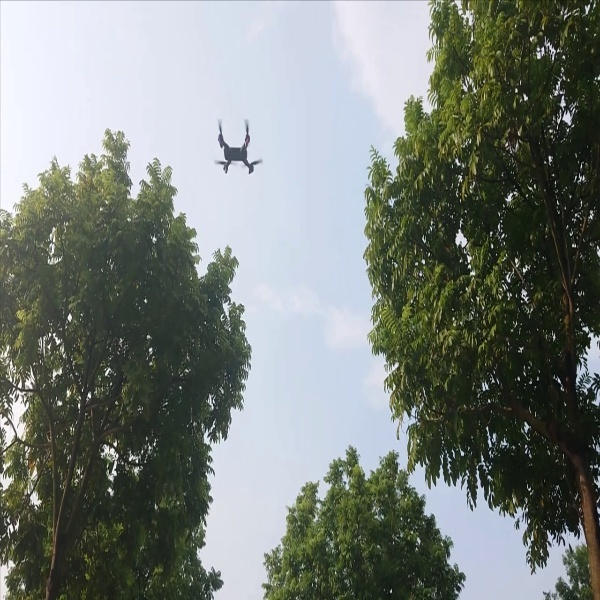drone: (206, 115, 272, 179)
